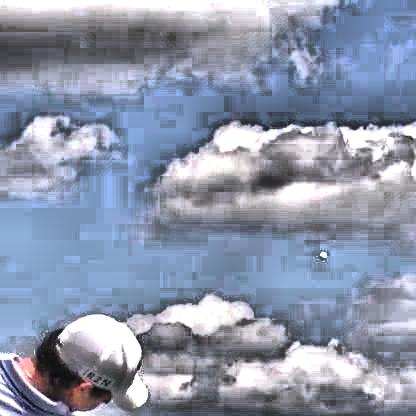golfball: (314, 249, 323, 258)
